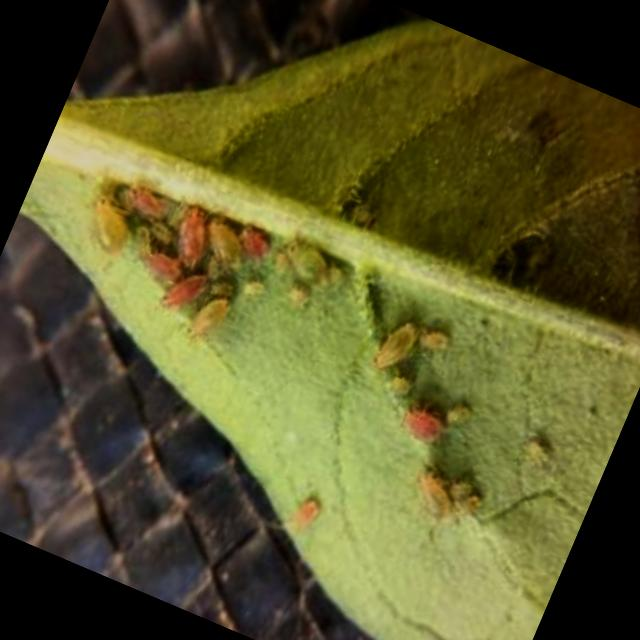Green peach aphid: (386, 442, 496, 544), (256, 242, 366, 344), (364, 289, 462, 396), (158, 276, 252, 376), (252, 462, 354, 553), (382, 370, 474, 460), (73, 188, 156, 264), (492, 398, 564, 469), (156, 256, 226, 329), (190, 210, 258, 282), (168, 206, 231, 276), (120, 176, 180, 233), (132, 234, 186, 294), (231, 212, 289, 264)
